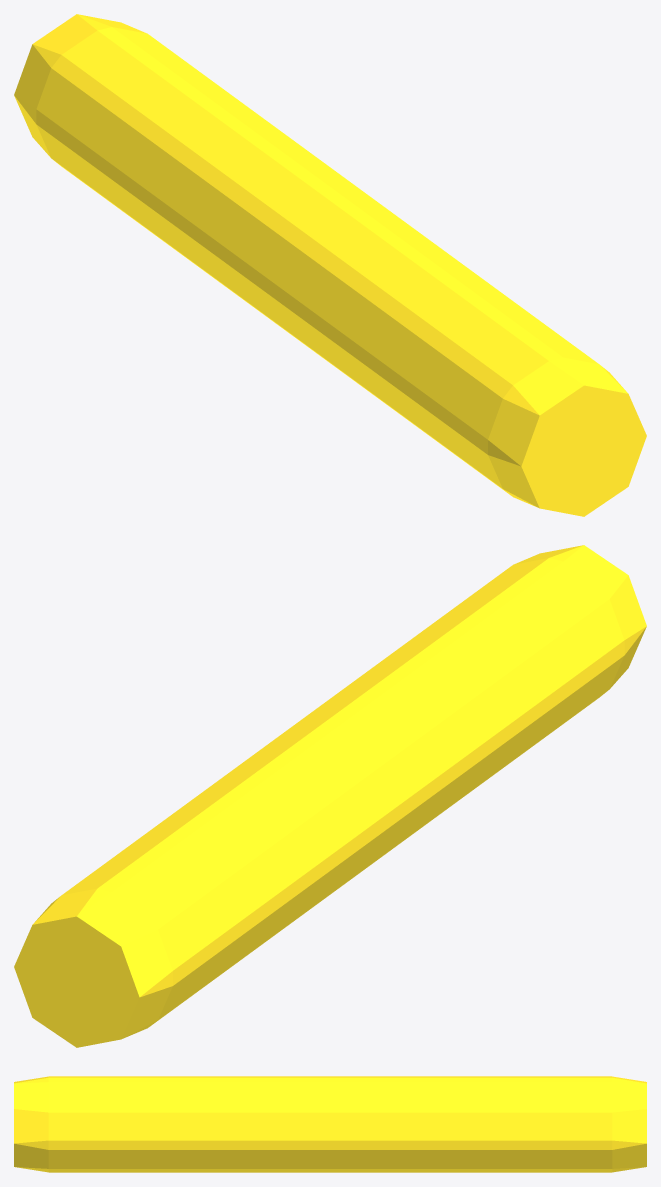
File: tiro1.fbx
The picture shows the model from 3 angles, top to bottom: view 1: azimuth 30°, elevation 25°; view 2: azimuth 150°, elevation 25°; view 3: azimuth 270°, elevation 25°; orthographic projection. The views are drawn at different scales.
Visible parts, largest first — view 1: Cylinder; view 2: Cylinder; view 3: Cylinder.
Boxes of the visible parts, x1,y1,x2,y2 form: Cylinder: [14, 14, 646, 516]; Cylinder: [14, 545, 646, 1047]; Cylinder: [14, 1076, 646, 1172].
Size of the model in its own units: 192 by 192 by 1233.
